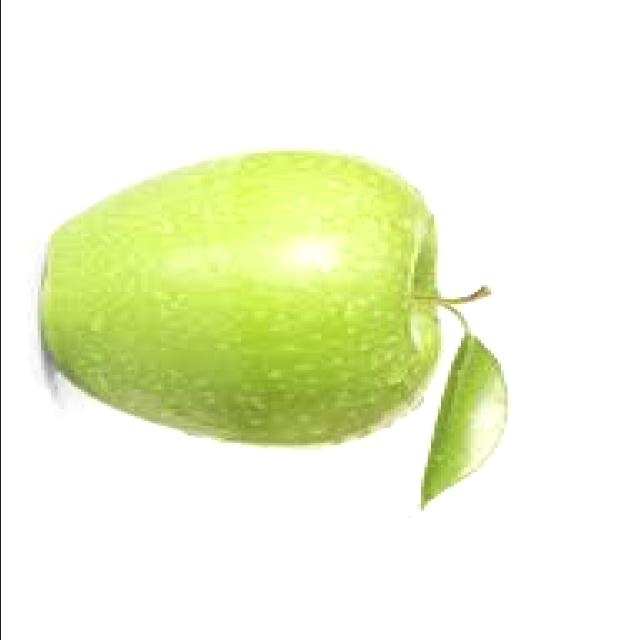agrume: (2, 89, 607, 519)
